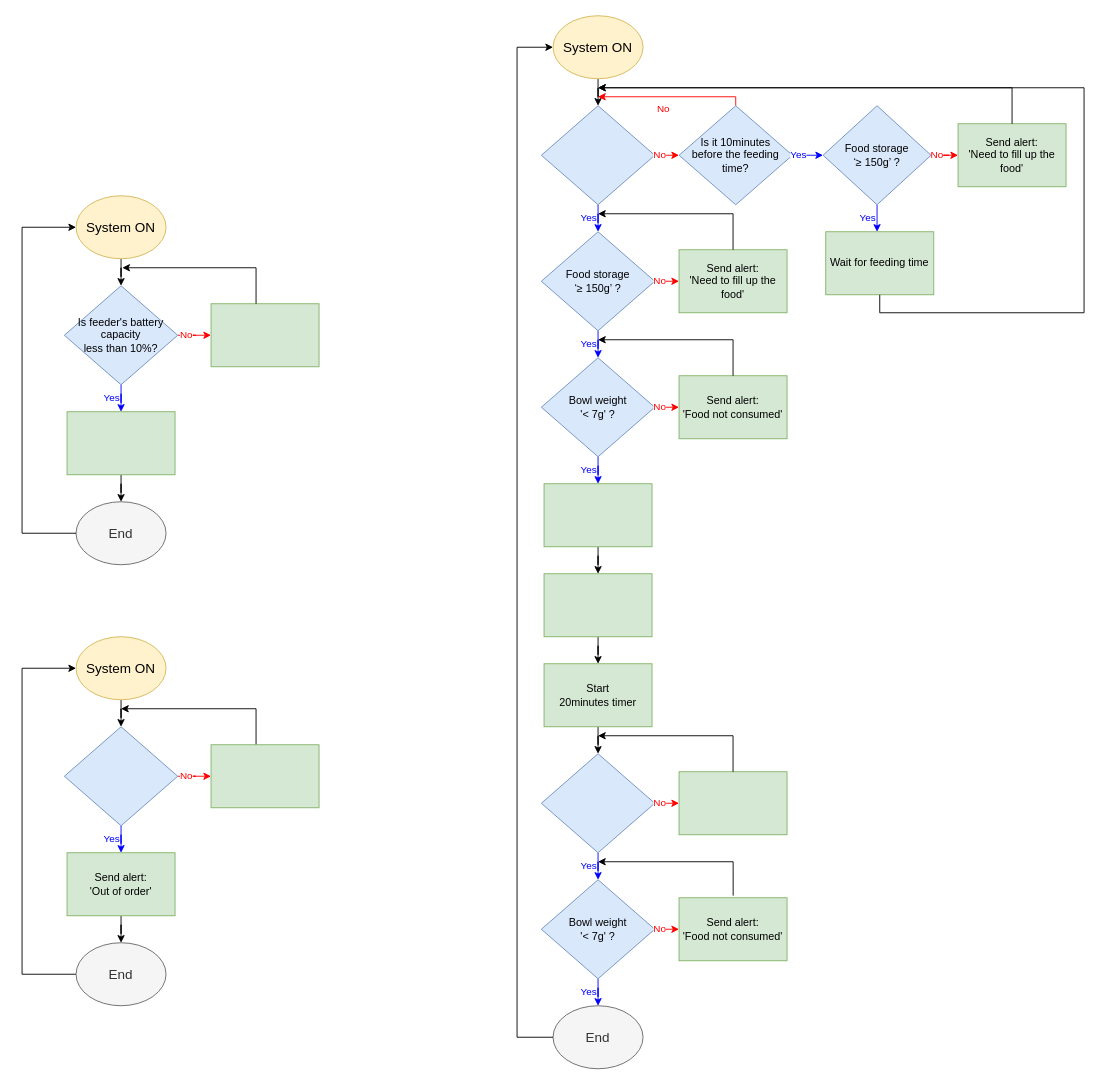
This 1107x1085 diagram has some shape labels left out. The shapes that lost their labels are listed below. From the top down, each one's centre as x and y in pixels, then its label:
point 597,155: Is it feeding time?
point 264,335: Wait for the battery capacity less than 10%
point 120,443: Send alert: 'Battery replacement required"
point 597,515: Dispense food
point 597,605: Measure and log the actual amount
point 120,776: Is feeder's status out of order?
point 264,776: Wait for the feeder's status out of order
point 597,803: Is it after 20 minutes?
point 732,803: Wait for 20minutes to pass
